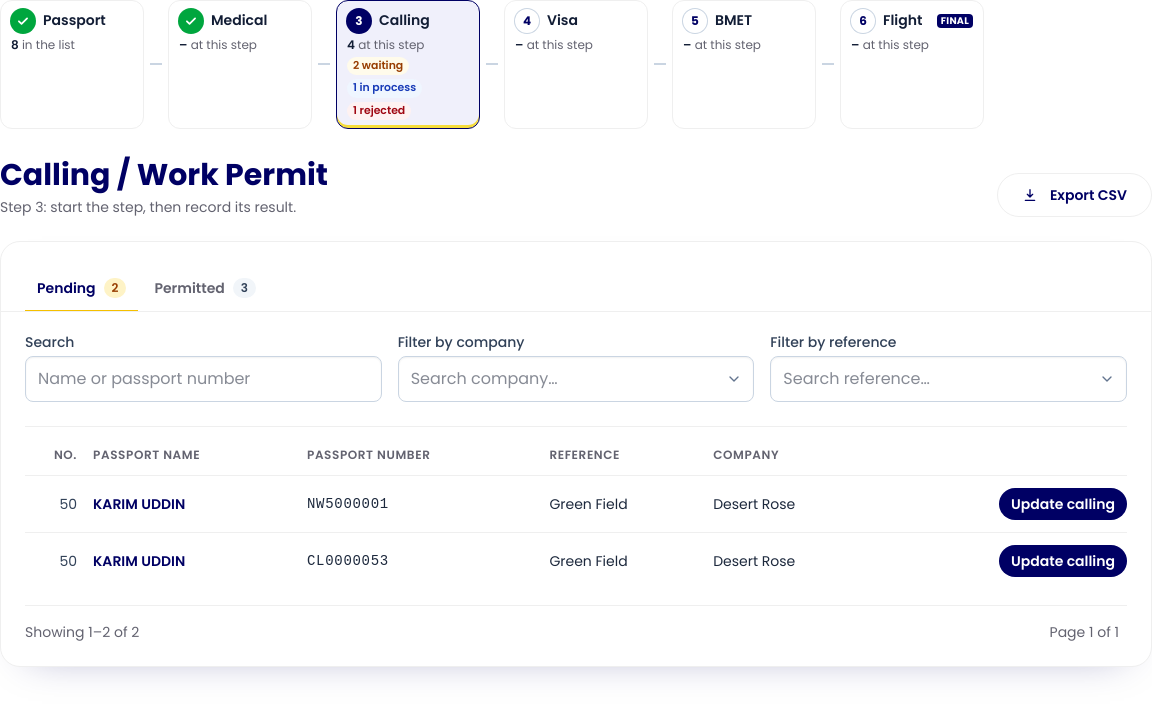
Scenario: Step pages (one per step) › Calling: Pending and Permitted › Update calling › shows API warnings without blocking
This screenshot has width=1152, height=720.
Click the button "Update calling" in the row of "CL0000053".
click(1063, 561)  # box [999, 545, 1127, 577]
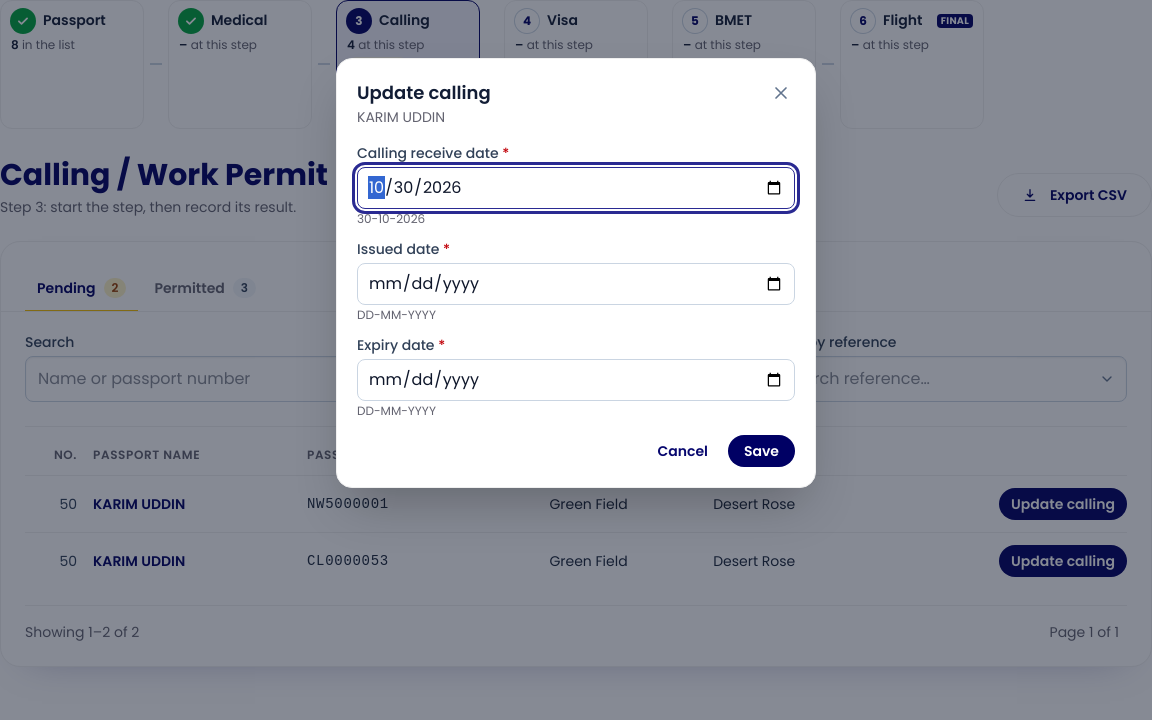
Type "2026-10-07" into the date field labelled "Calling receive date *".
click(576, 188); type("2026-10-07")  # box [357, 167, 795, 209]
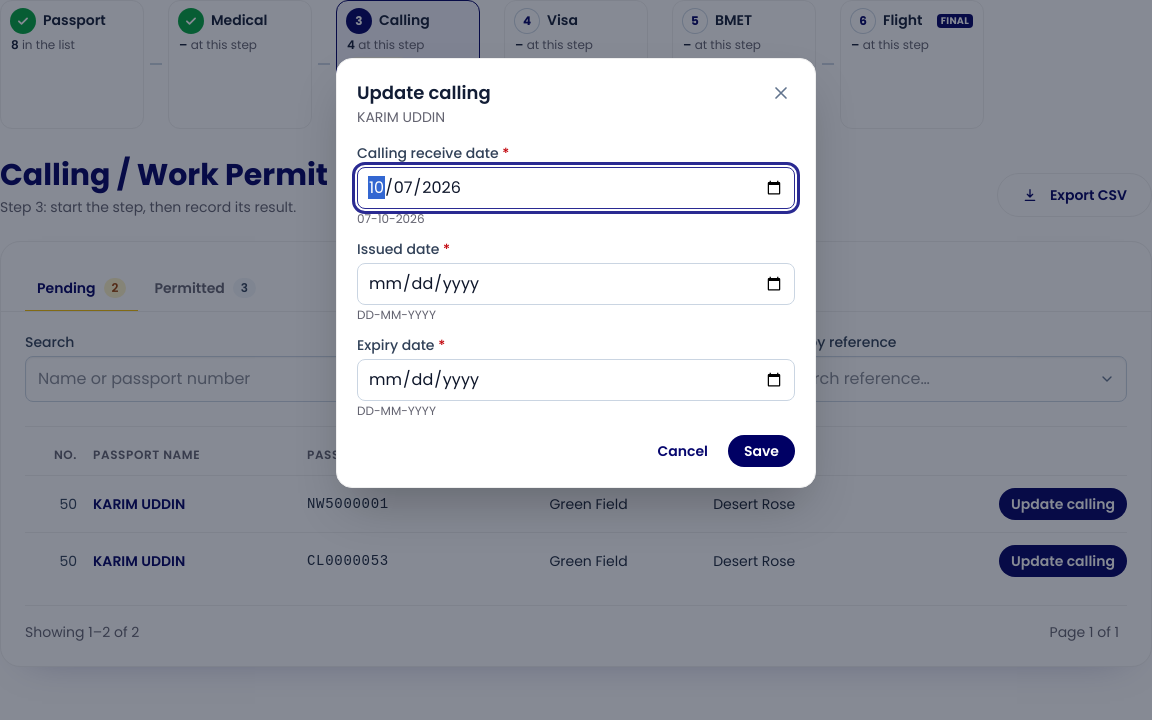
Type "2026-10-06" into the date field labelled "Issued date *".
click(576, 284); type("2026-10-06")  # box [357, 263, 795, 305]
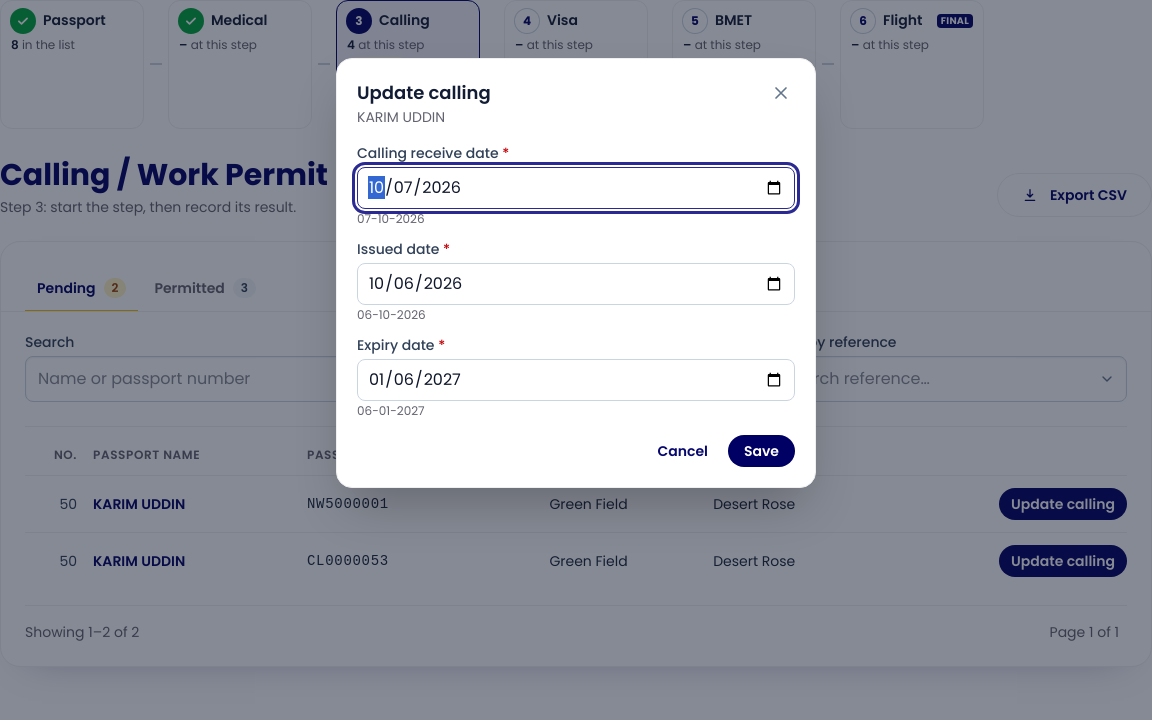
Type "2027-10-06" into the date field labelled "Expiry date *".
click(576, 380); type("2027-10-06")  # box [357, 359, 795, 401]
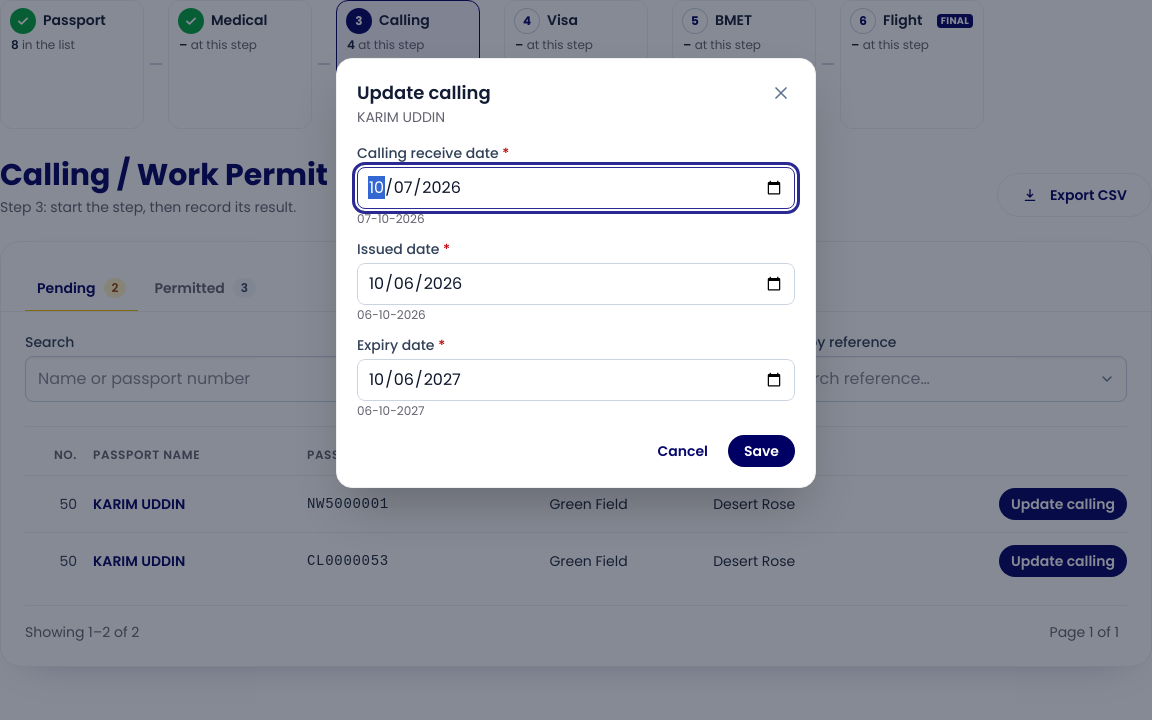
Submit the form, box [357, 143, 795, 467]
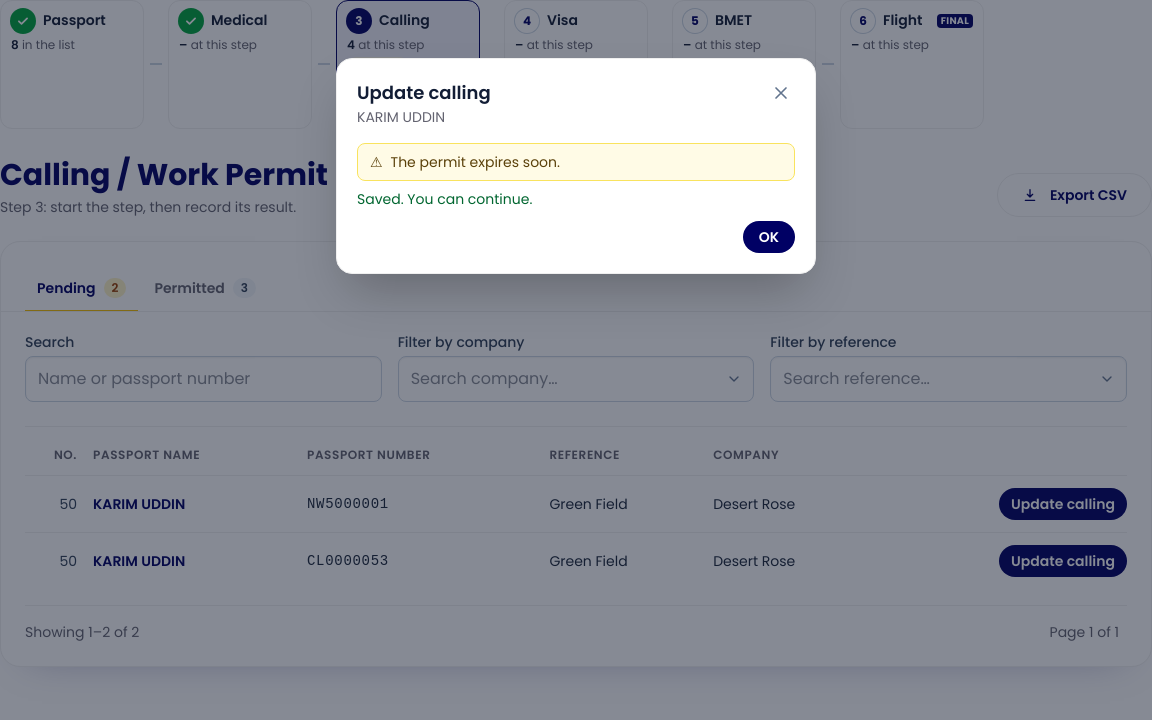
Now the message "⚠ The permit expires soon." is shown, box [357, 143, 795, 181]
